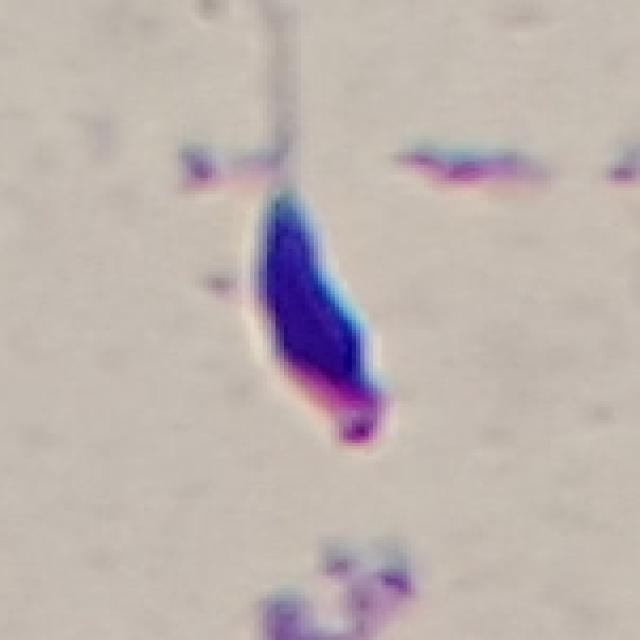abnormal sperm: (239, 89, 391, 447)
